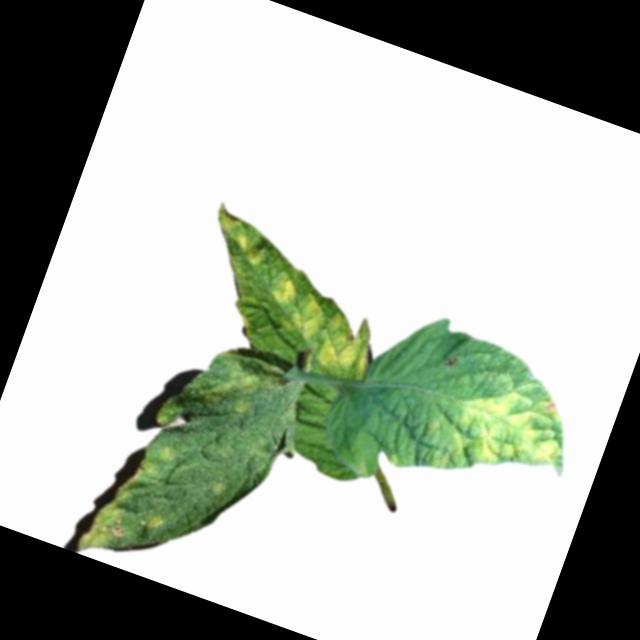Leaf_Mold: (418, 351, 591, 513), (72, 430, 188, 577), (250, 266, 390, 387), (203, 202, 280, 271)
